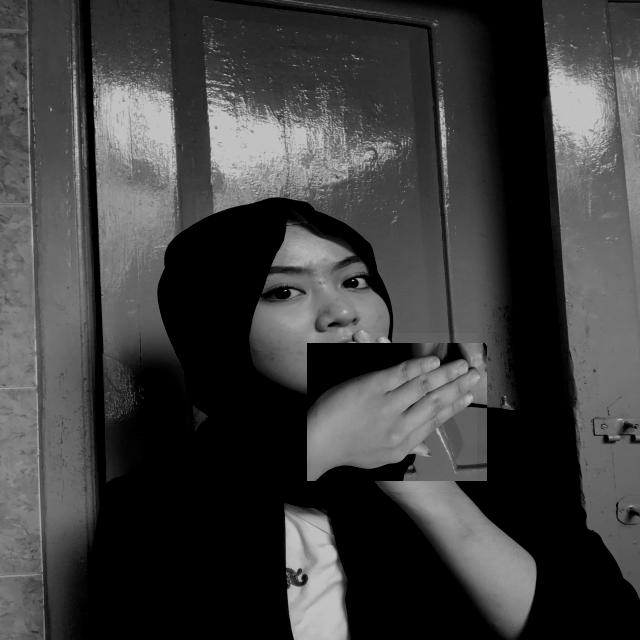ngantuk: (317, 333, 477, 492)
